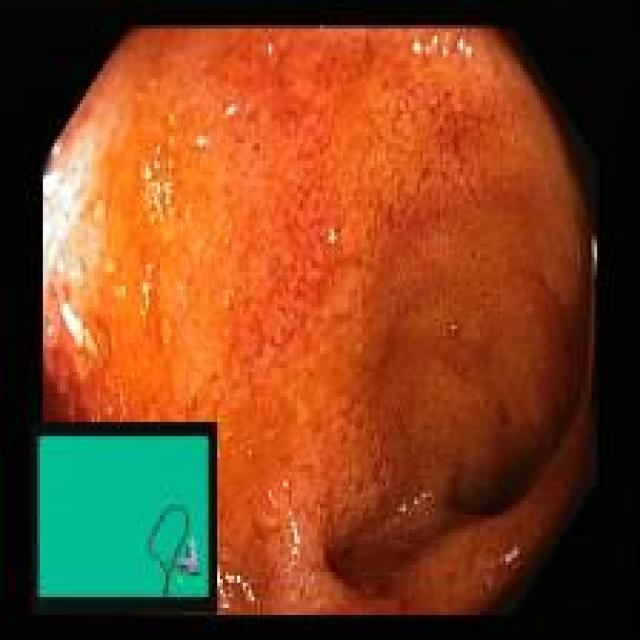ulcerative-colitis: (44, 28, 596, 614)
